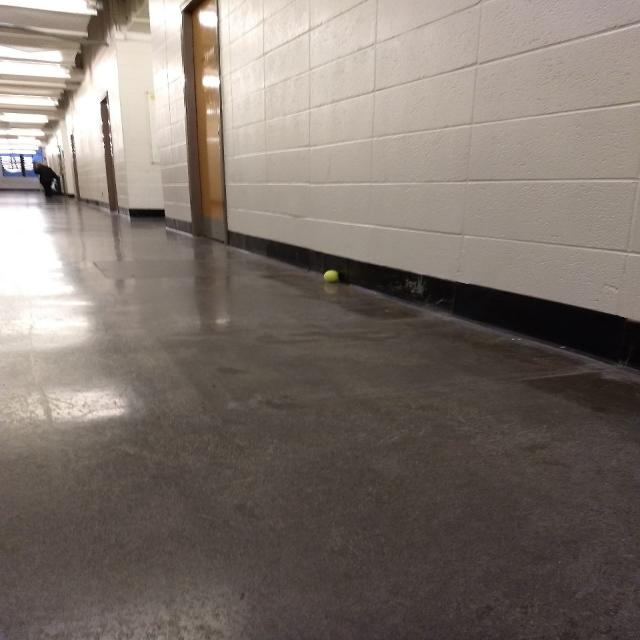Tennis-Ball: (288, 253, 386, 313)
